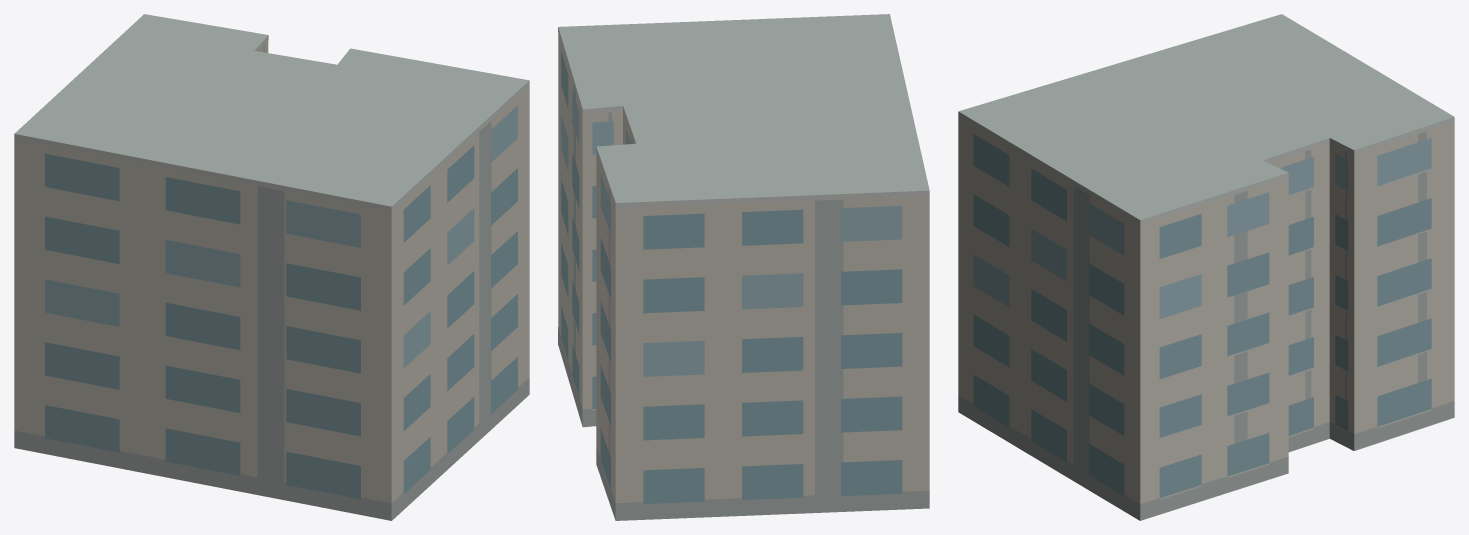
The model's file is survey-upis-32810702.glb.
The picture shows the model from 3 angles, left to right: view 1: azimuth 30°, elevation 25°; view 2: azimuth 150°, elevation 25°; view 3: azimuth 270°, elevation 25°; orthographic projection. The views are drawn at different scales.
Visible parts, largest first — view 1: survey-upis-32810702.tmp; view 2: survey-upis-32810702.tmp; view 3: survey-upis-32810702.tmp.
Boxes of the visible parts, box(x1,y1,x2,y2) form: survey-upis-32810702.tmp: box(14, 14, 529, 520); survey-upis-32810702.tmp: box(558, 14, 929, 520); survey-upis-32810702.tmp: box(958, 14, 1454, 520).
Bounding box in the file's own units: 20.88 × 14.2 × 21.25.
